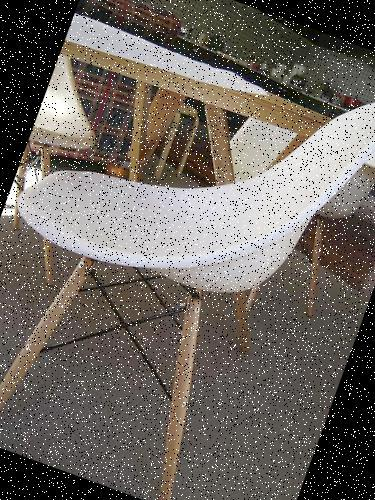Mesa: (0, 8, 362, 365)
Silla: (0, 0, 374, 499)
